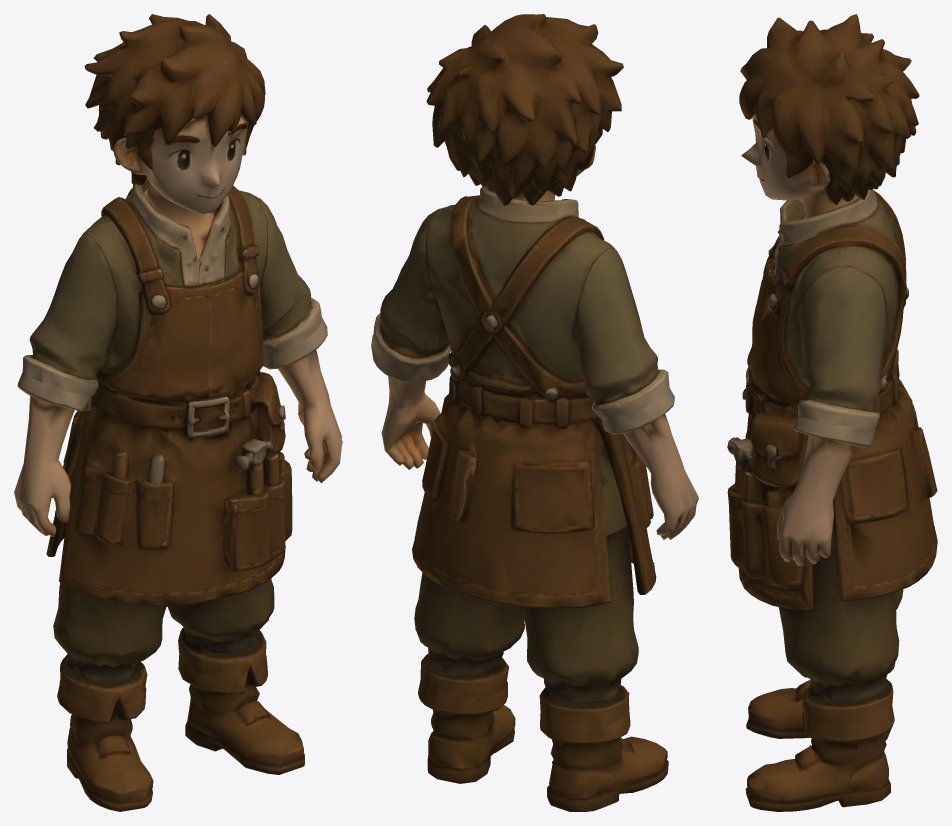
Rendered from chr_keeper_c_v1.glb.
3 views of the same model, side by side, from view 1: azimuth 30°, elevation 25°; view 2: azimuth 150°, elevation 25°; view 3: azimuth 270°, elevation 25° (orthographic).
Parts seen in each view (by area): view 1: tripo_node_4312ce1d-2beb-4556-b01f-ae43f605d6af; view 2: tripo_node_4312ce1d-2beb-4556-b01f-ae43f605d6af; view 3: tripo_node_4312ce1d-2beb-4556-b01f-ae43f605d6af.
Part boxes in pixels (bbox=[...]): tripo_node_4312ce1d-2beb-4556-b01f-ae43f605d6af: bbox=[14, 14, 342, 811]; tripo_node_4312ce1d-2beb-4556-b01f-ae43f605d6af: bbox=[371, 14, 698, 811]; tripo_node_4312ce1d-2beb-4556-b01f-ae43f605d6af: bbox=[727, 14, 937, 811].
Size of the model in its own units: 0.4266 by 0.9796 by 0.2512.
Materials: 1 (1 with a texture image).
